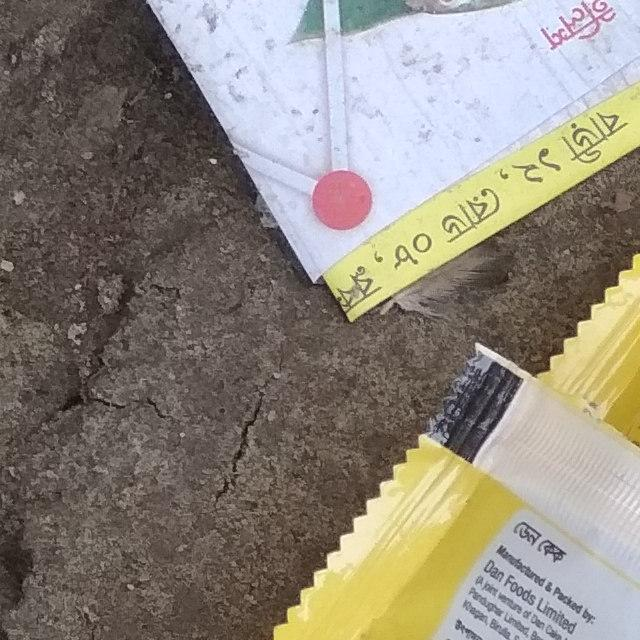paper: (49, 0, 640, 342)
plastic: (155, 58, 640, 640)
